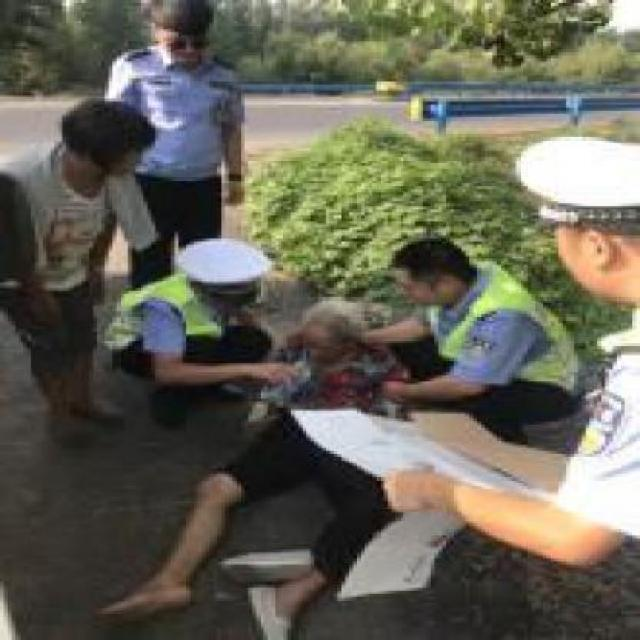fall: (89, 273, 400, 638)
